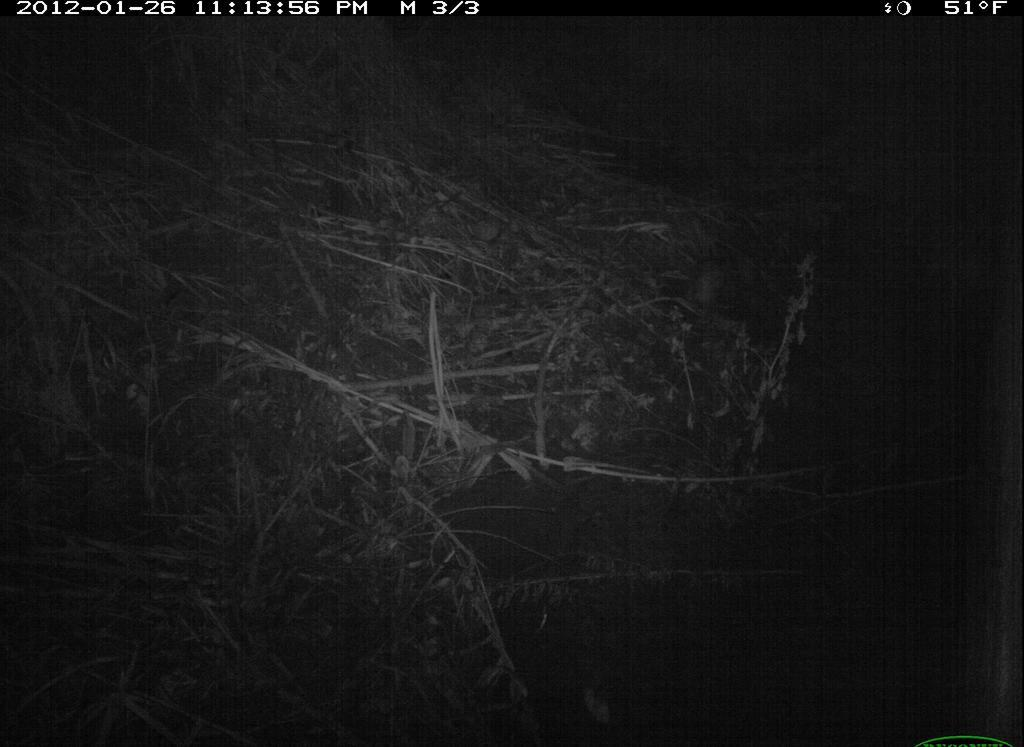opossum: (685, 236, 765, 318)
